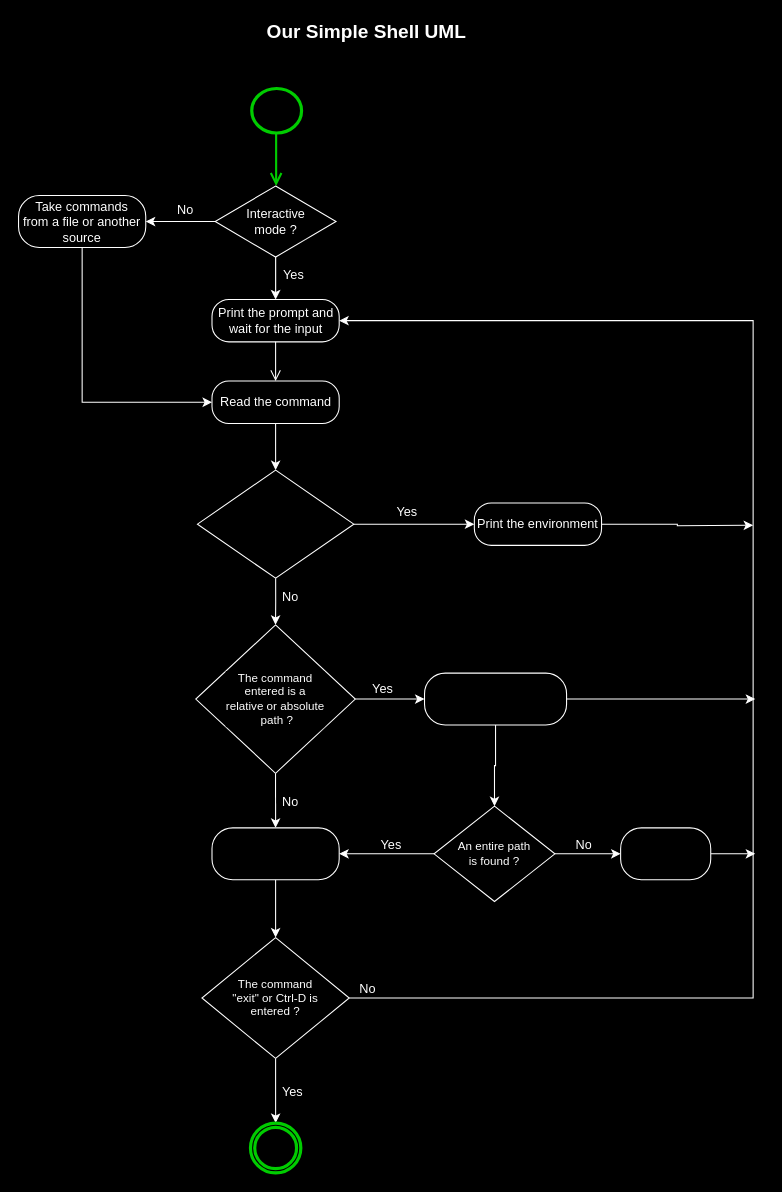
Some shapes in this 782 by 1192 pixel diagram are drawn without their labels. The shapes that lost their labels are listed below. From the top down, each one's centre as x and y in pixels, then its label:
pixel 275 523: The command entered by user is "env" ?
pixel 495 698: Look for the complete path in PATH
pixel 275 853: Execute the command
pixel 665 853: Print an Error message
